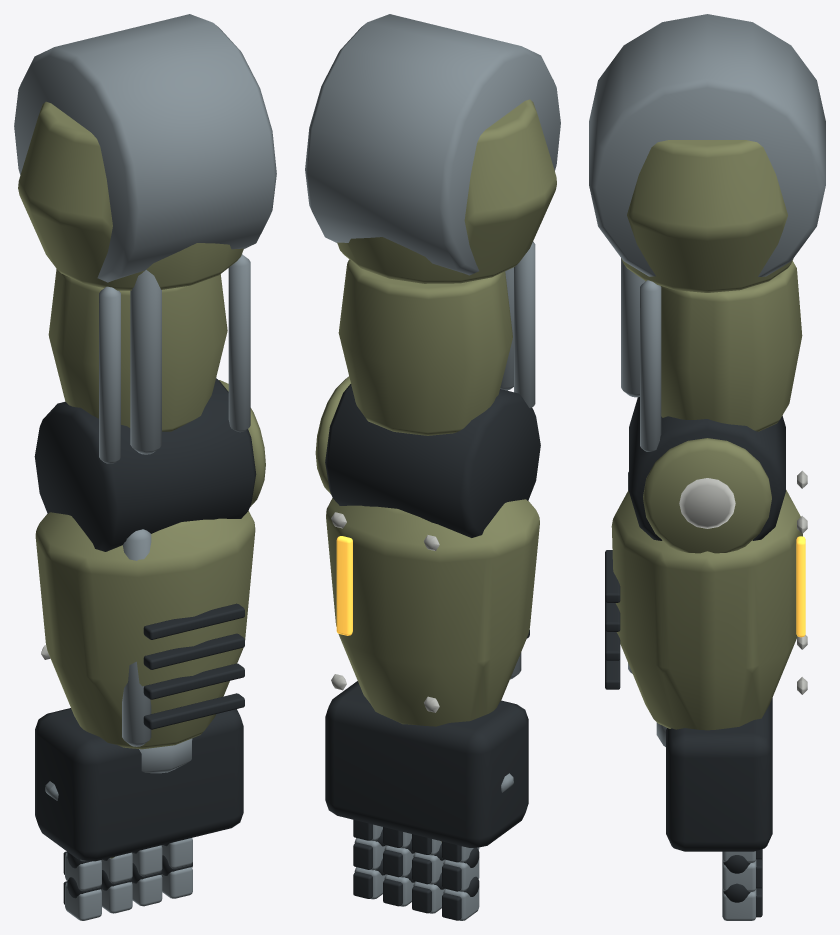
File: arms_03.glb
3 renders of one model, left to right at view 1: azimuth 30°, elevation 25°; view 2: azimuth 150°, elevation 25°; view 3: azimuth 270°, elevation 25°, orthographic. The views are drawn at different scales.
Parts seen in each view (by area): view 1: Forearm.002_Geometry, UpperArm.002_Geometry, Shoulder bearing.002, FingerIndex3.002_Geometry, FingerIndex2.002_Geometry, FingerPinky3.002_Geometry, FingerMiddle3.002_Geometry, FingerRing3.002_Geometry, FingerRing2.002_Geometry, FingerMiddle2.002_Geometry, FingerPinky2.002_Geometry; view 2: Forearm.002_Geometry, UpperArm.002_Geometry, Shoulder bearing.002, FingerIndex3.002_Geometry, FingerIndex2.002_Geometry, FingerMiddle3.002_Geometry, FingerPinky3.002_Geometry, FingerMiddle2.002_Geometry, FingerPinky2.002_Geometry, FingerRing3.002_Geometry, FingerRing2.002_Geometry; view 3: Forearm.002_Geometry, UpperArm.002_Geometry, Shoulder bearing.002, FingerPinky3.002_Geometry, FingerPinky2.002_Geometry.
Part boxes in pixels (bbox=[...]): Forearm.002_Geometry: bbox=[35, 380, 265, 861]; UpperArm.002_Geometry: bbox=[18, 101, 256, 551]; Shoulder bearing.002: bbox=[14, 14, 276, 282]; FingerIndex3.002_Geometry: bbox=[63, 877, 101, 920]; FingerIndex2.002_Geometry: bbox=[63, 851, 101, 890]; FingerPinky3.002_Geometry: bbox=[161, 855, 192, 898]; FingerMiddle3.002_Geometry: bbox=[101, 870, 132, 913]; FingerRing3.002_Geometry: bbox=[132, 863, 162, 906]; FingerRing2.002_Geometry: bbox=[132, 845, 162, 876]; FingerMiddle2.002_Geometry: bbox=[101, 852, 132, 883]; FingerPinky2.002_Geometry: bbox=[161, 838, 192, 868]; Forearm.002_Geometry: bbox=[315, 376, 539, 847]; UpperArm.002_Geometry: bbox=[325, 99, 556, 537]; Shoulder bearing.002: bbox=[305, 14, 560, 275]; FingerIndex3.002_Geometry: bbox=[442, 876, 479, 920]; FingerIndex2.002_Geometry: bbox=[442, 848, 479, 891]; FingerMiddle3.002_Geometry: bbox=[412, 872, 444, 913]; FingerPinky3.002_Geometry: bbox=[353, 858, 385, 899]; FingerMiddle2.002_Geometry: bbox=[412, 843, 444, 884]; FingerPinky2.002_Geometry: bbox=[353, 829, 385, 870]; FingerRing3.002_Geometry: bbox=[383, 867, 414, 906]; FingerRing2.002_Geometry: bbox=[383, 838, 414, 877]; Forearm.002_Geometry: bbox=[605, 438, 807, 851]; UpperArm.002_Geometry: bbox=[621, 140, 802, 540]; Shoulder bearing.002: bbox=[589, 14, 825, 276]; FingerPinky3.002_Geometry: bbox=[722, 883, 762, 920]; FingerPinky2.002_Geometry: bbox=[722, 855, 762, 891].
Bounding box in the file's own units: 0.2182 × 0.7915 × 0.2.
